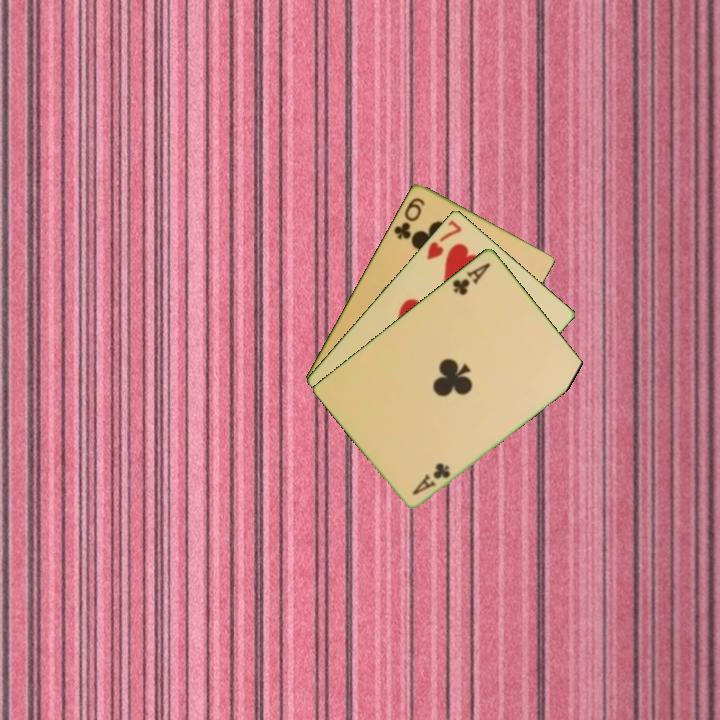6c: (390, 194, 428, 242)
7h: (423, 216, 465, 263)
Ac: (449, 259, 494, 298), (409, 459, 453, 497)
